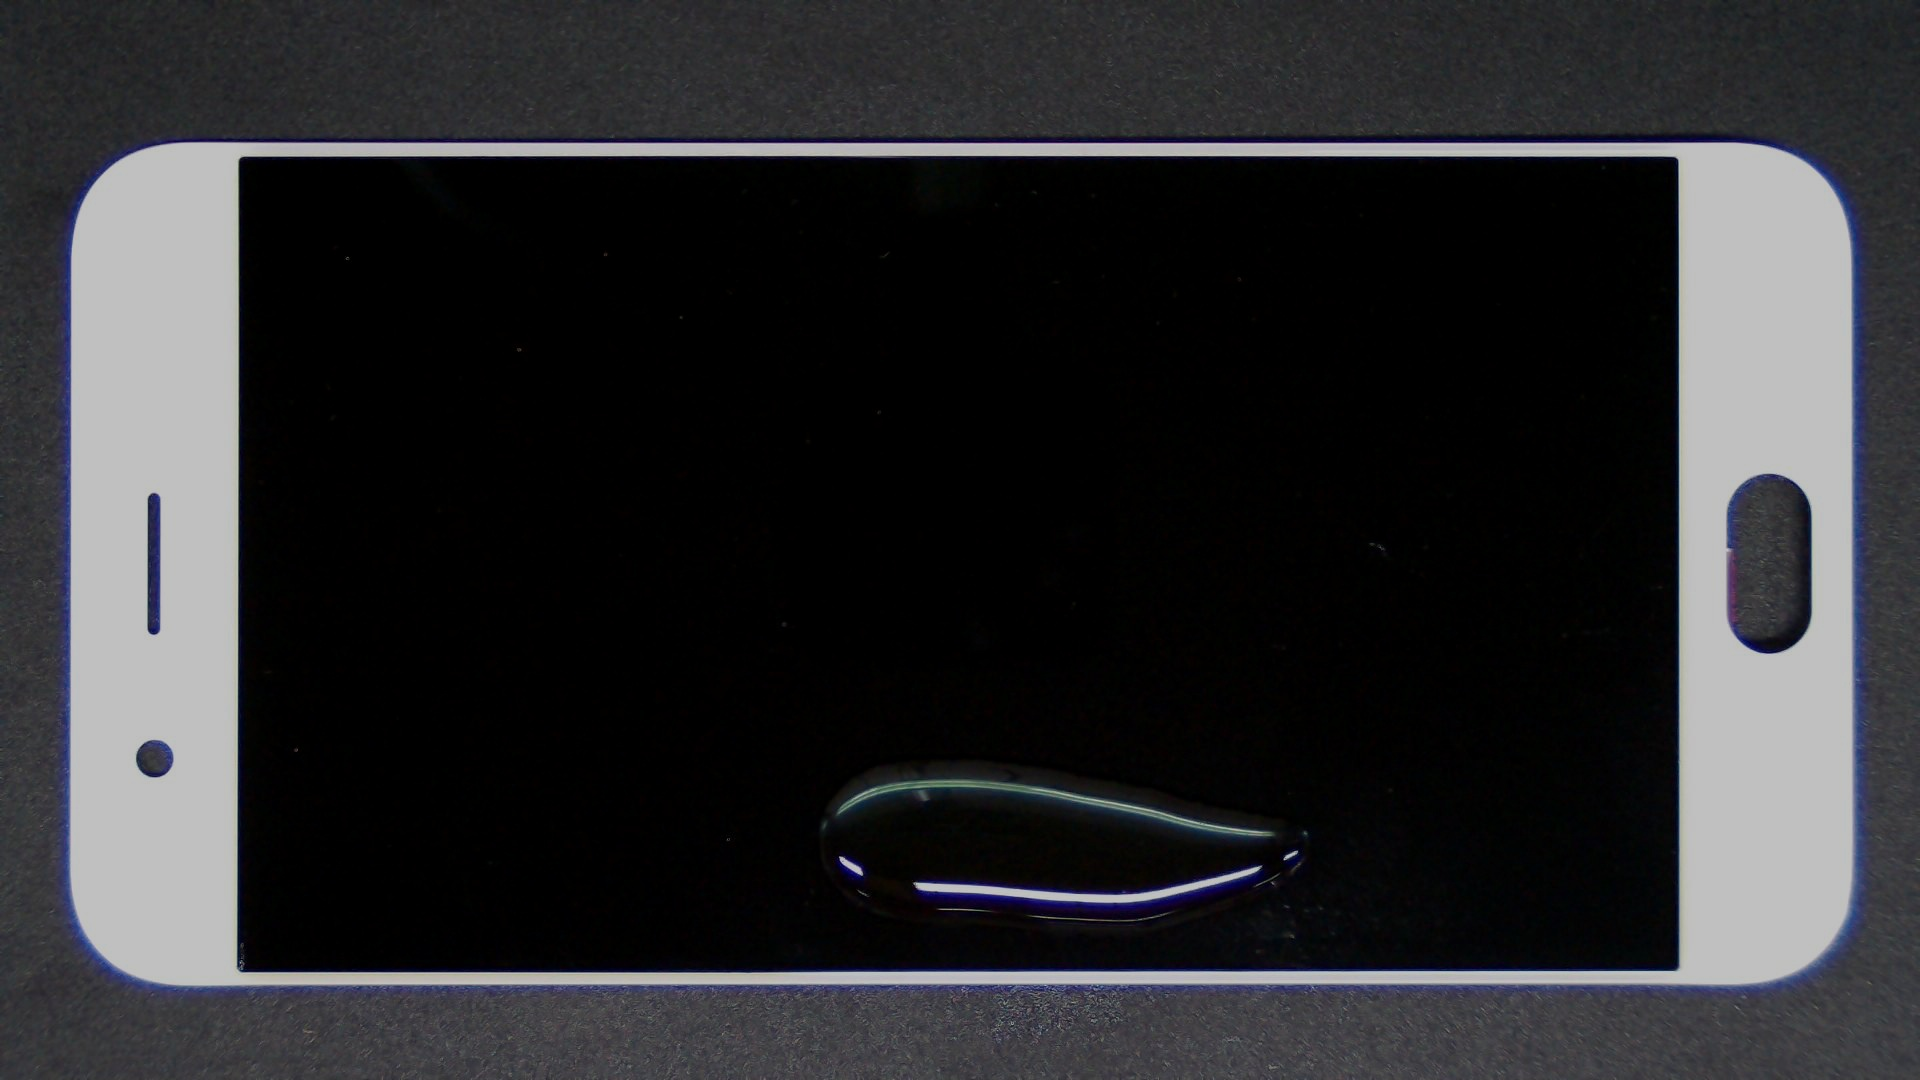oil: (467, 377, 1398, 1080)
